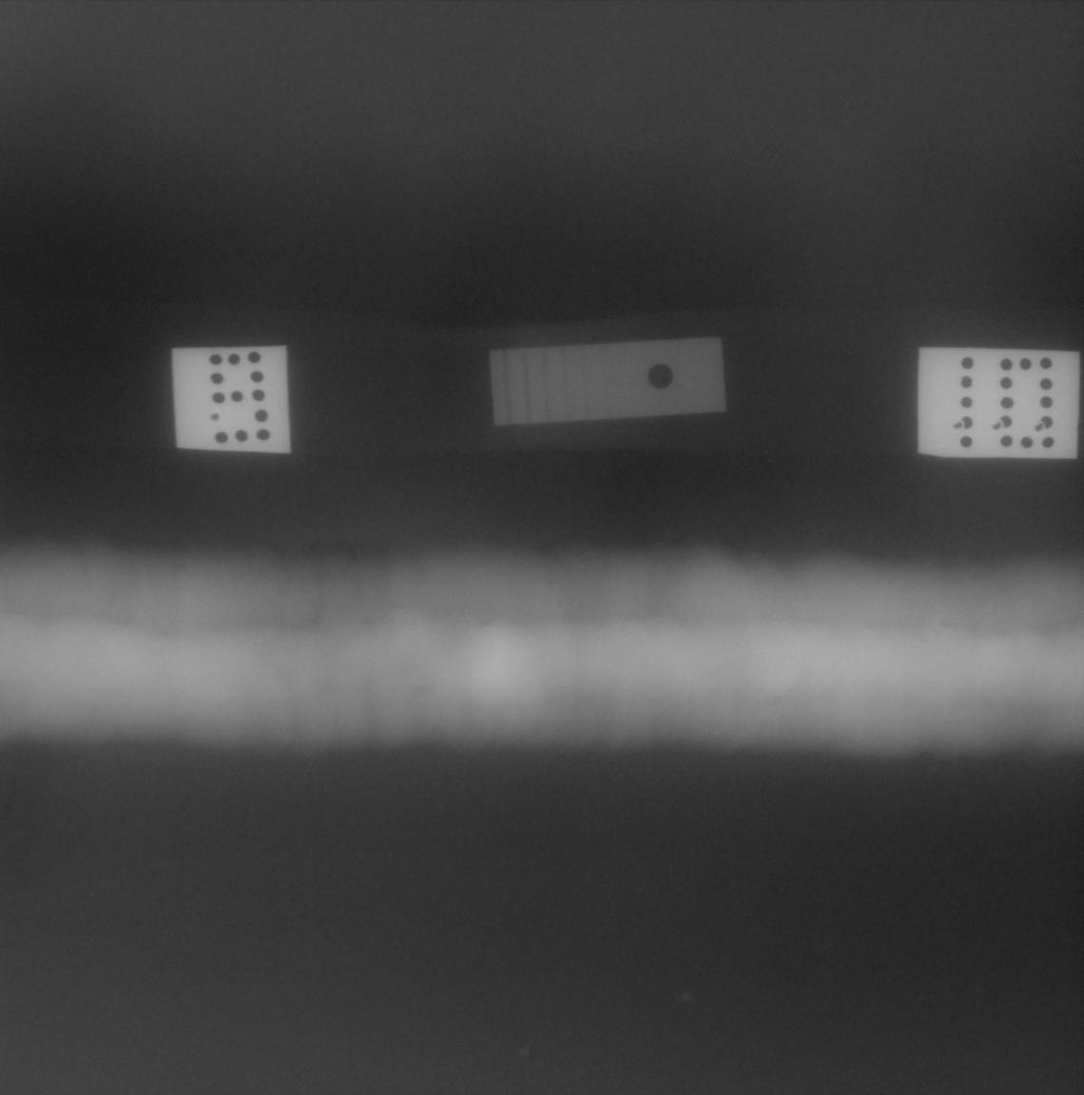Inclusion: (407, 682, 437, 700)
Pore/Porosity: (364, 622, 368, 625)
Reference Standard 1: (489, 335, 727, 426)
